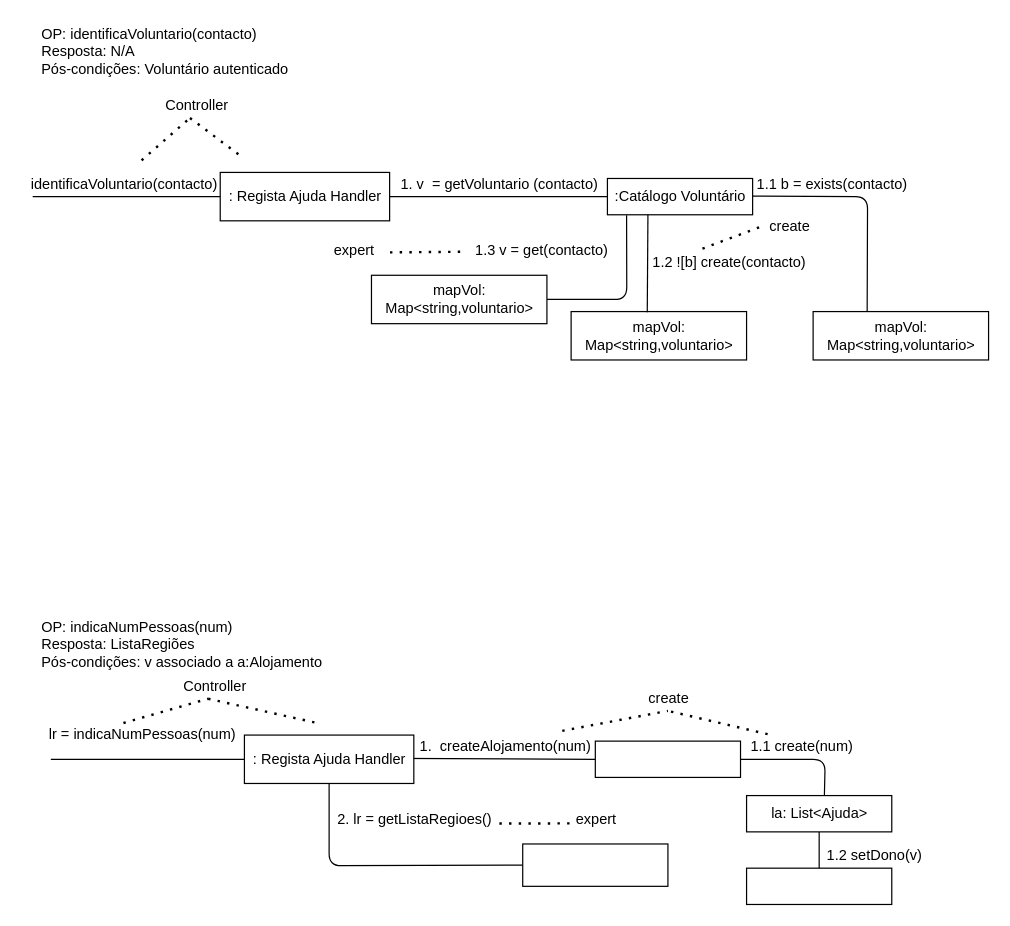
This 1010x926 diagram has some shape labels left out. The shapes that lost their labels are listed below. From the top down, each one's box as (x1, y1, x2, y2) in pixels, then its label:
(594, 740, 741, 777): :Catálogo Ajuda
(522, 843, 668, 886): :Catálogo Regiões
(745, 867, 892, 904): a:Ajuda
